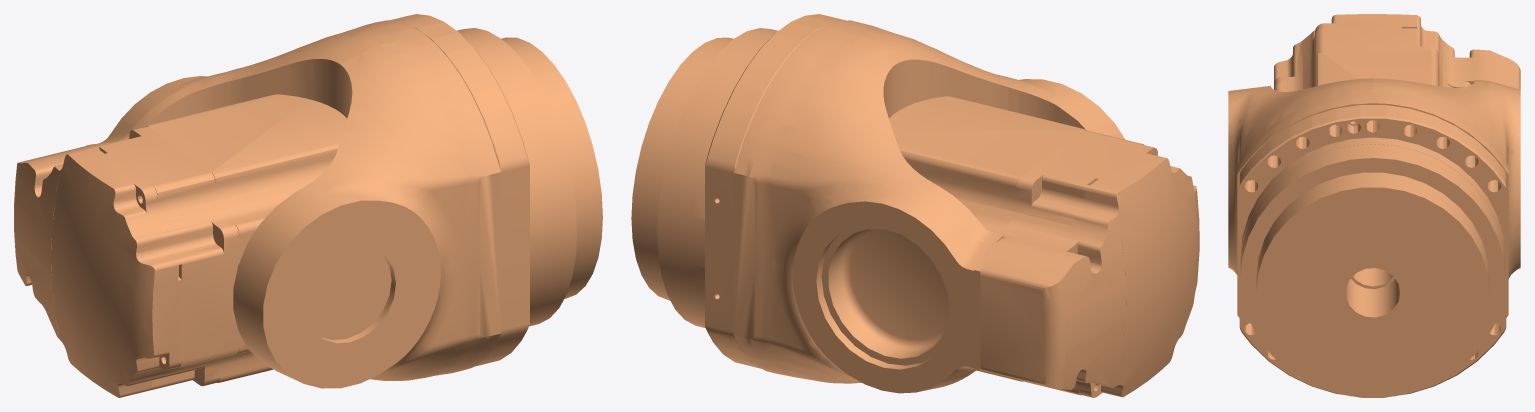
The picture shows the model from 3 angles, left to right: view 1: azimuth 30°, elevation 25°; view 2: azimuth 150°, elevation 25°; view 3: azimuth 270°, elevation 25°; orthographic projection. The views are drawn at different scales.
Visible parts, largest first — view 1: link_5; view 2: link_5; view 3: link_5.
Boxes of the visible parts, bbox=[...] form: link_5: bbox=[14, 14, 602, 397]; link_5: bbox=[631, 14, 1199, 397]; link_5: bbox=[1228, 14, 1520, 397].
Bounding box in the file's own units: 0.302 × 0.192 × 0.205.
